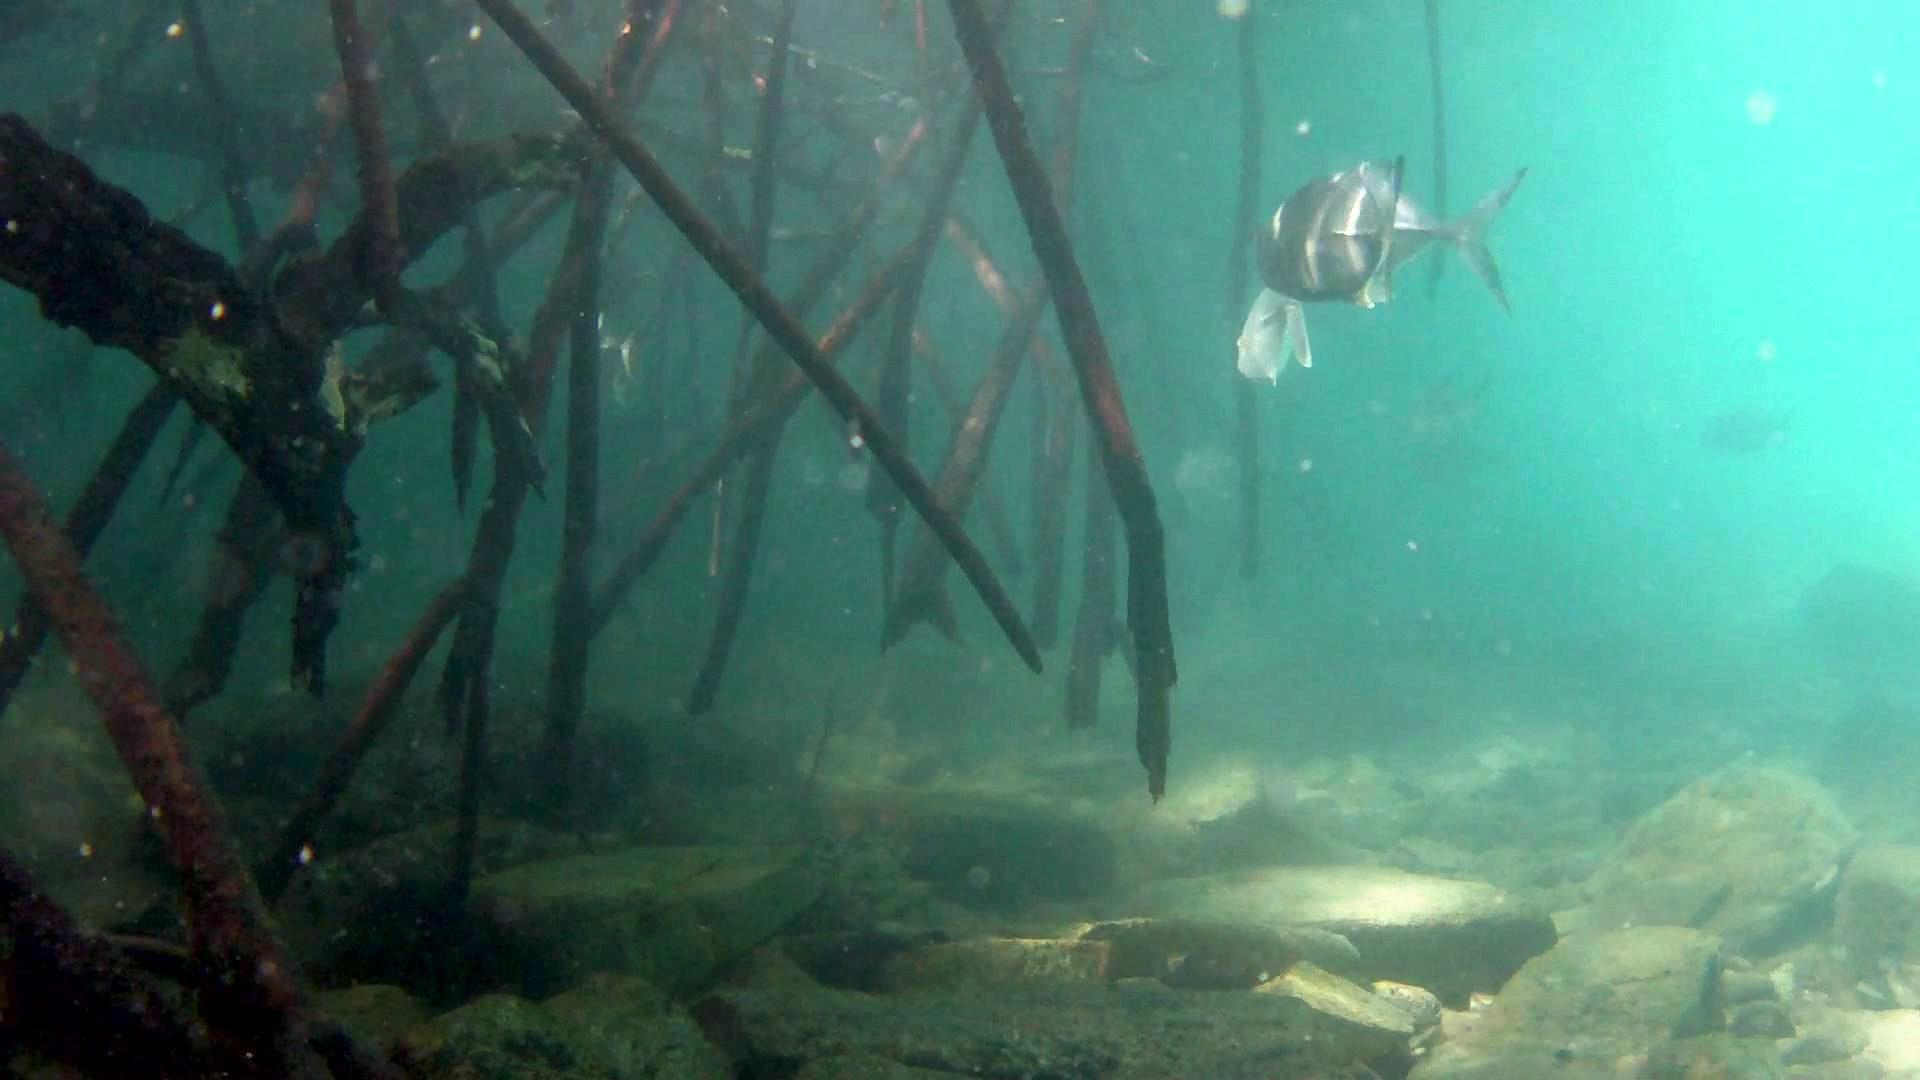caranx: (1246, 145, 1412, 326)
